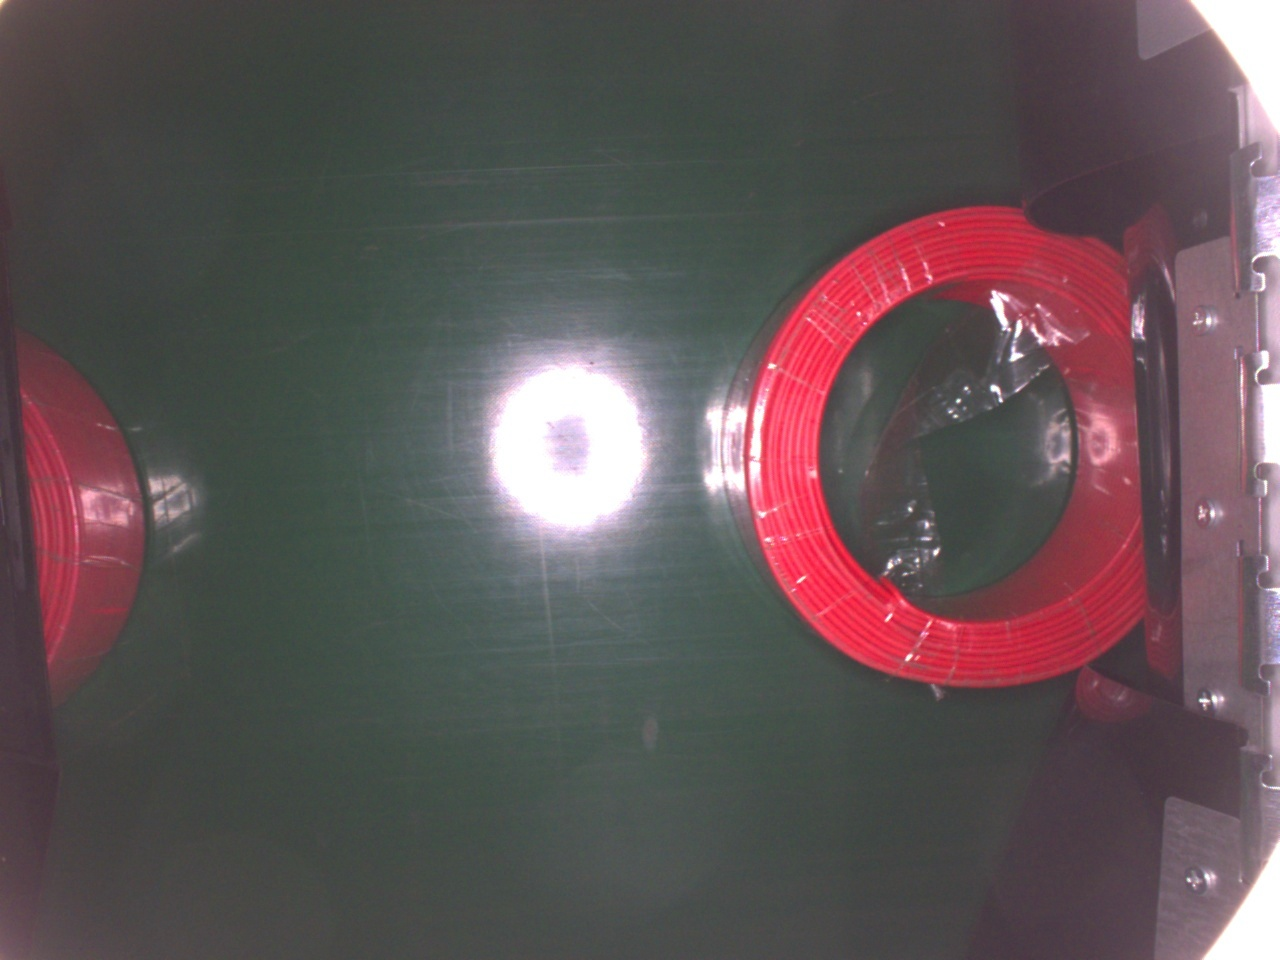red: (716, 202, 1146, 690), (17, 325, 149, 710)
